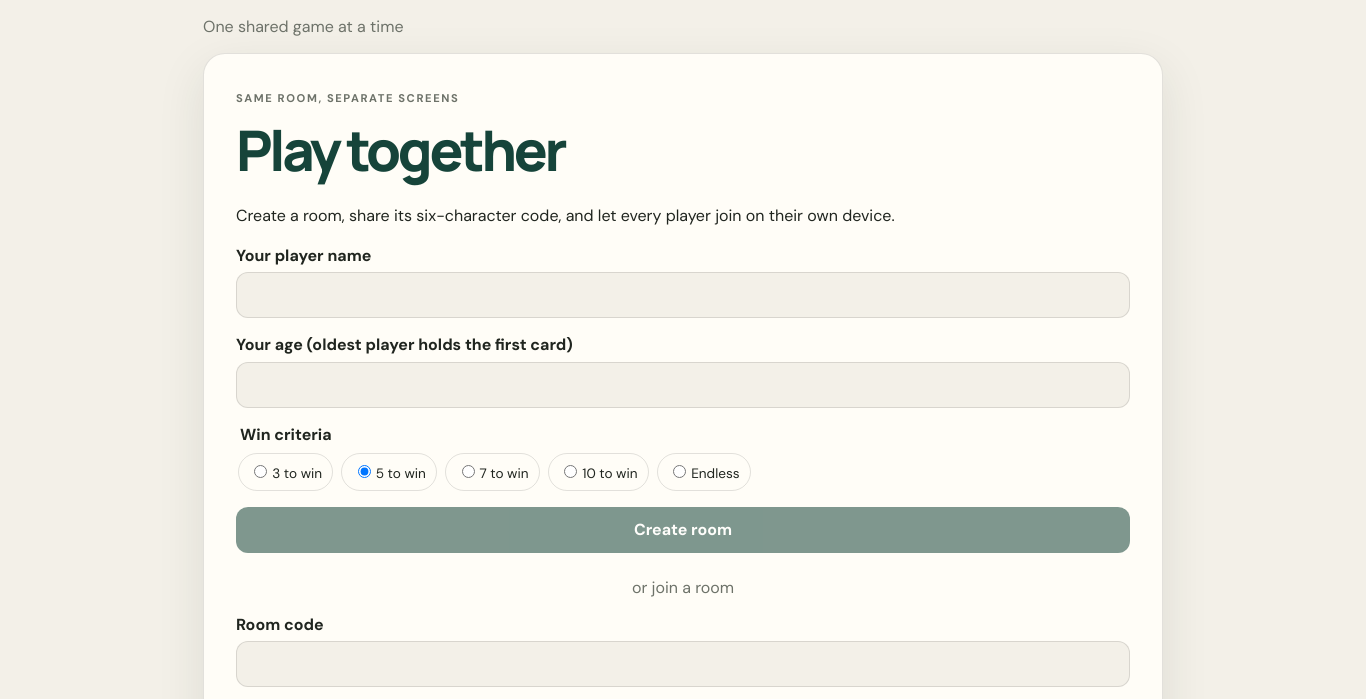
Scenario: Endless target is sent as null when creating a room
Step 1. Type "Ada" into the field labelled "Your player name" → point(683, 295), box x1=236 y1=272 x2=1130 y2=318
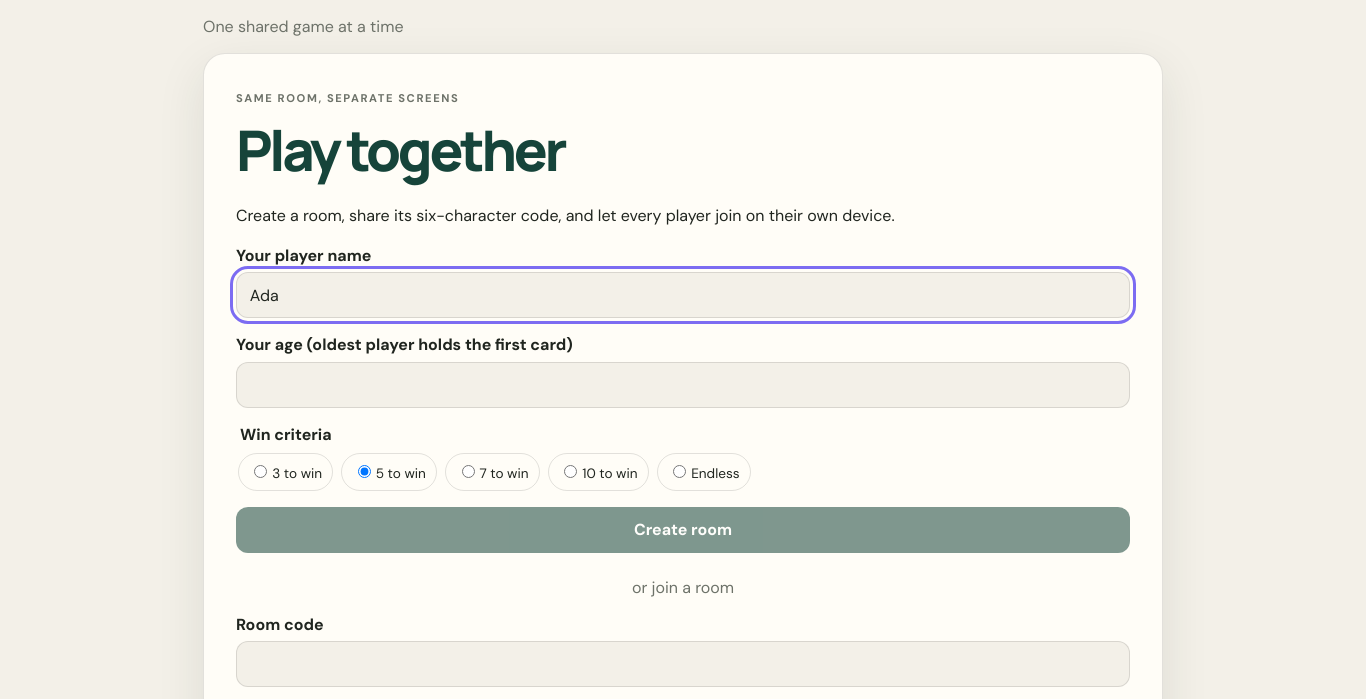
Step 2. Type "40" into the number field labelled "Your age (oldest player holds the first card)" → point(683, 385), box x1=236 y1=362 x2=1130 y2=408
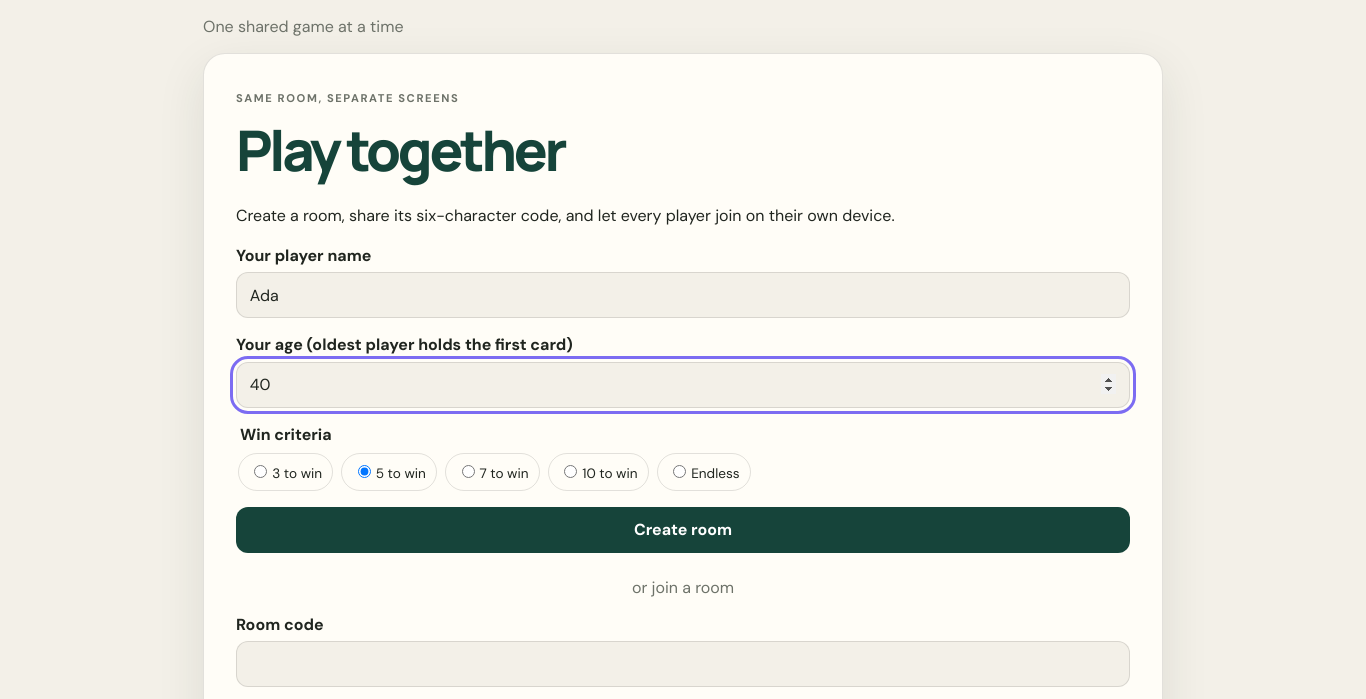
Step 3. Click the radio button labelled "Endless" → point(680, 471), box x1=673 y1=465 x2=686 y2=478
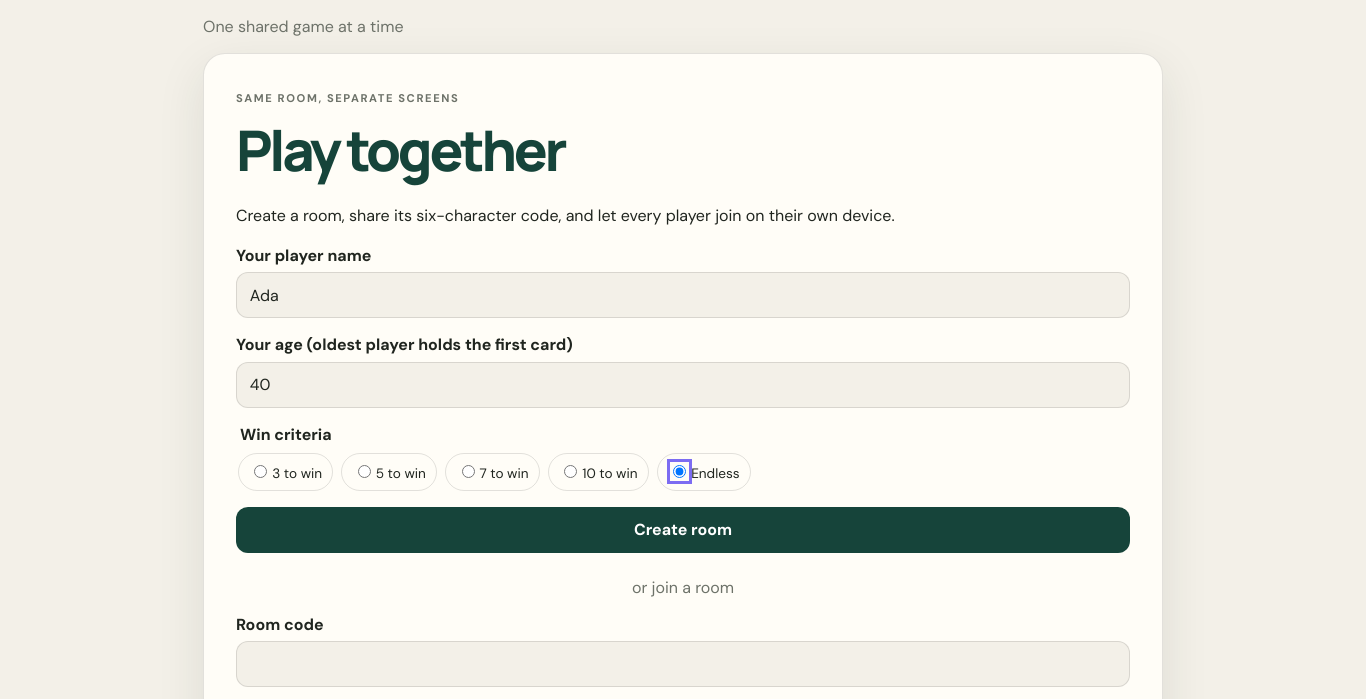
Step 4. Click the button "Create room" → point(683, 530), box x1=236 y1=507 x2=1130 y2=553
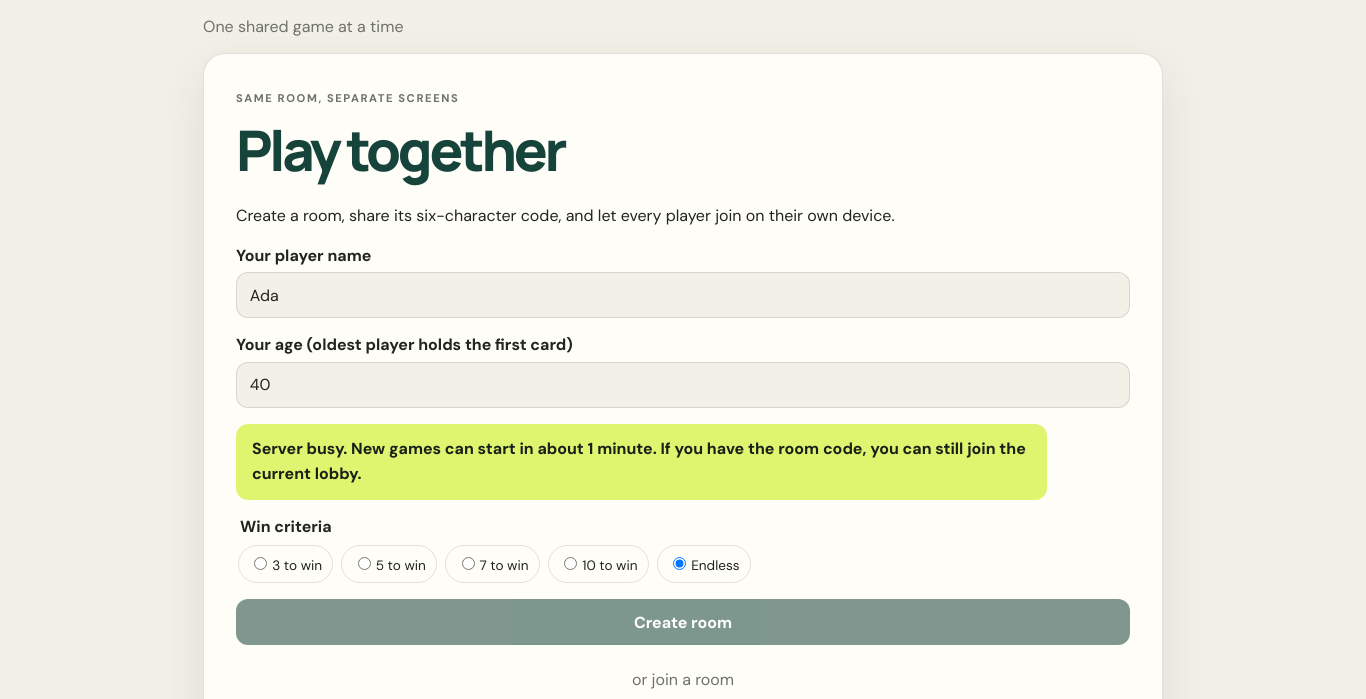
Check: the text "1 minute" is shown, box x1=588 y1=438 x2=653 y2=459
